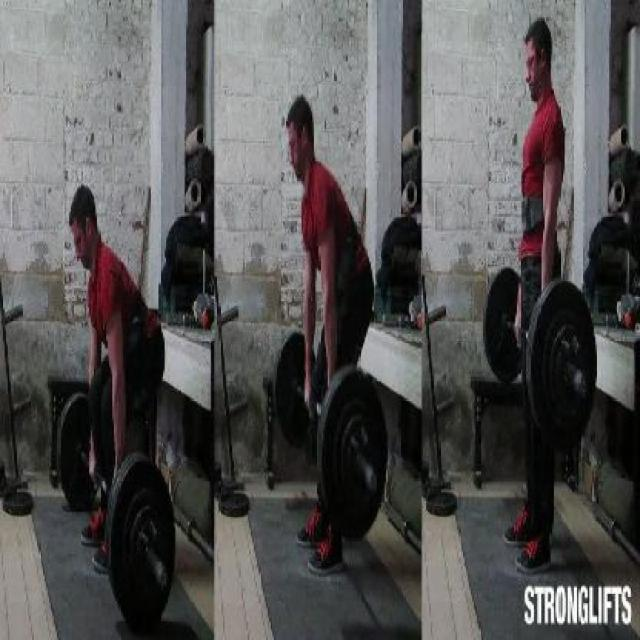barbell: (103, 437, 194, 640), (523, 260, 603, 473), (315, 349, 396, 558)
